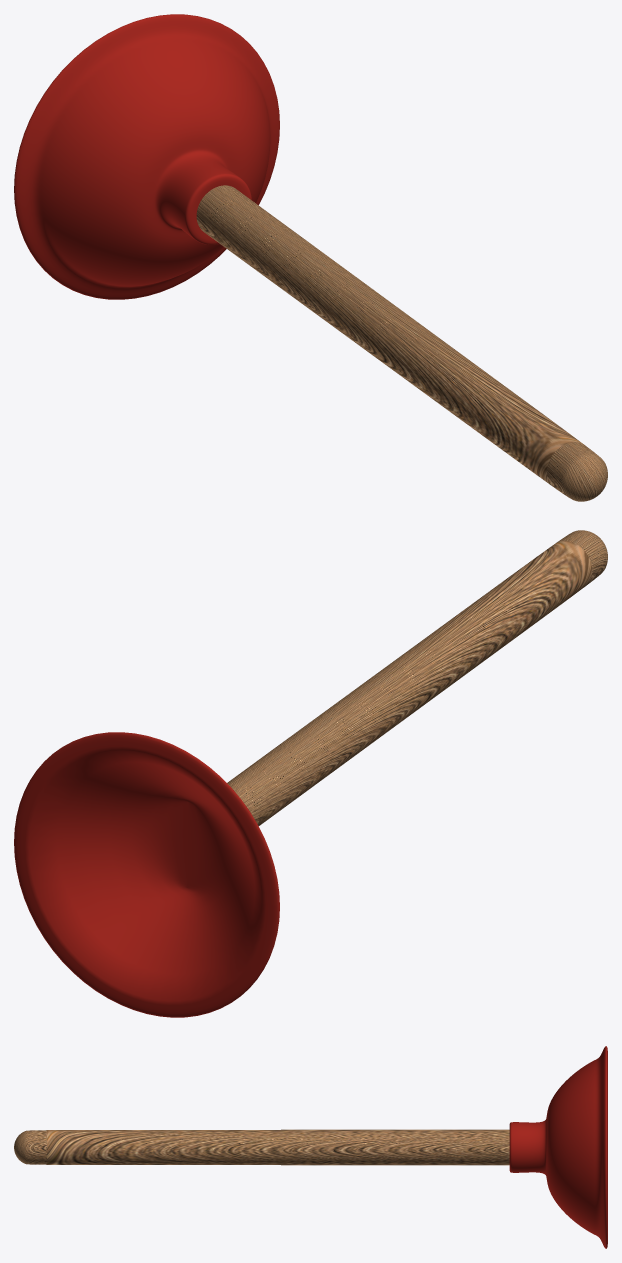
The model's file is plunger_pewpew.obj.
3 renders of one model, top to bottom at view 1: azimuth 30°, elevation 25°; view 2: azimuth 150°, elevation 25°; view 3: azimuth 270°, elevation 25°, orthographic. The views are drawn at different scales.
Parts seen in each view (by area): view 1: Plunger03_Sphere.002; view 2: Plunger03_Sphere.002; view 3: Plunger03_Sphere.002.
Part boxes in pixels (bbox=[...]): Plunger03_Sphere.002: bbox=[14, 14, 607, 501]; Plunger03_Sphere.002: bbox=[14, 530, 607, 1017]; Plunger03_Sphere.002: bbox=[14, 1046, 607, 1248].
Bounding box in the file's own units: 0.3183 × 0.3183 × 0.9314.
Materials: 2 (1 with a texture image).
